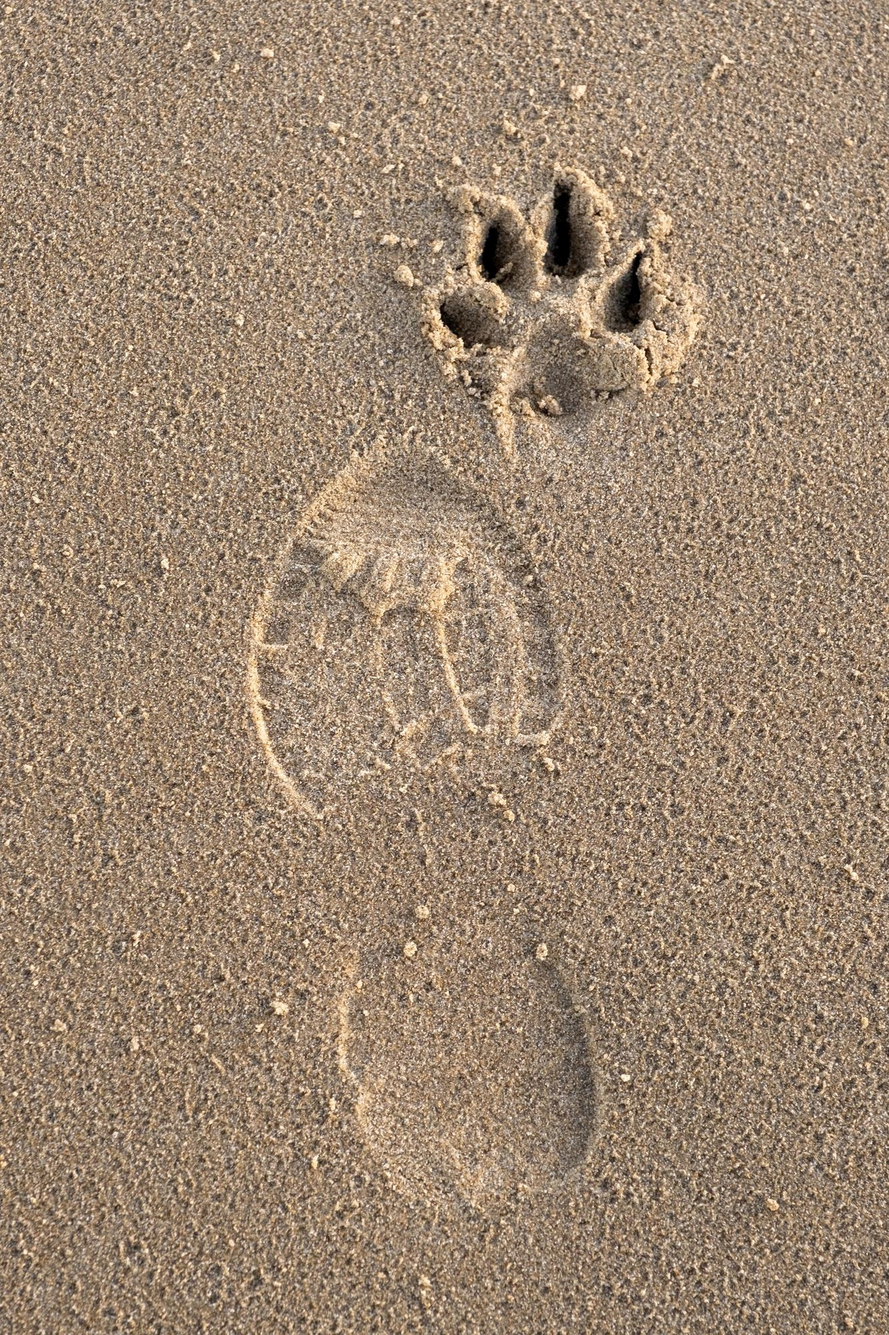human_foot_print: (168, 463, 637, 1235), (423, 158, 720, 444)
